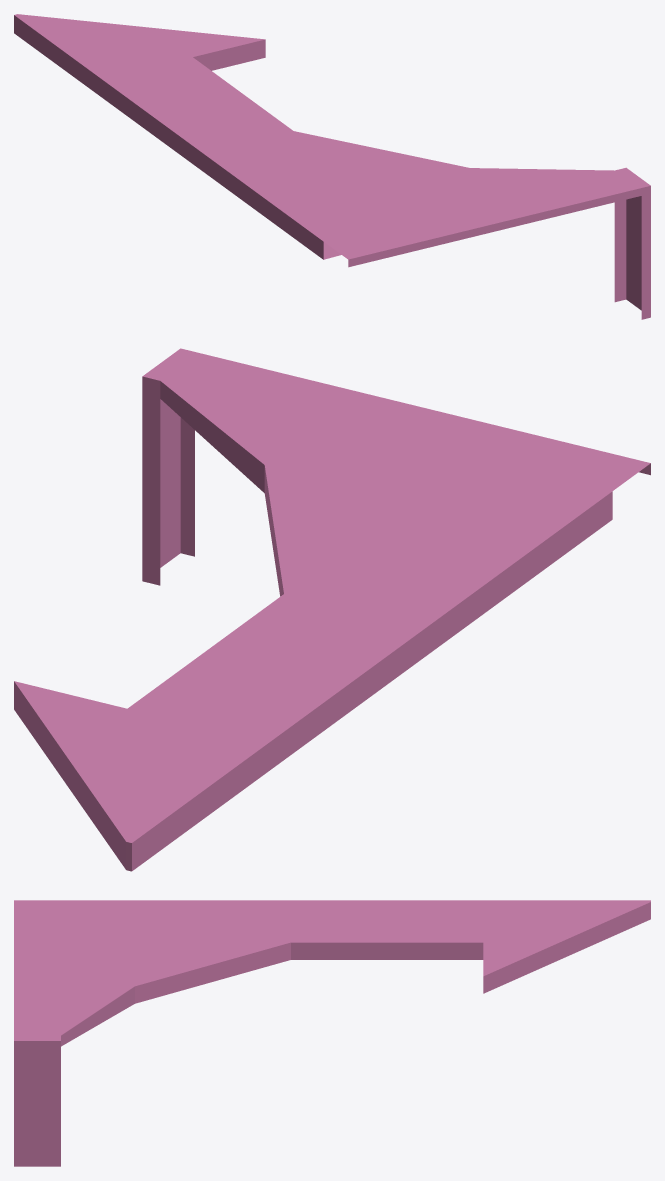
The model's file is RingPanelPart.fbx.
3 renders of one model, top to bottom at view 1: azimuth 30°, elevation 25°; view 2: azimuth 150°, elevation 25°; view 3: azimuth 270°, elevation 25°, orthographic. The views are drawn at different scales.
Visible parts, largest first — view 1: Cube.003; view 2: Cube.003; view 3: Cube.003.
Part boxes in pixels (left/top/right/bottom): Cube.003: left=14, top=14, right=650, bottom=319; Cube.003: left=14, top=348, right=650, bottom=871; Cube.003: left=14, top=900, right=650, bottom=1166.
Bounding box in the file's own units: 107 × 44.68 × 205.
